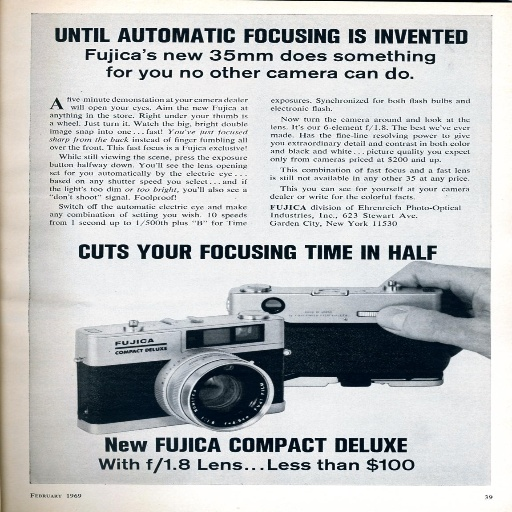hand: (373, 251, 487, 371)
